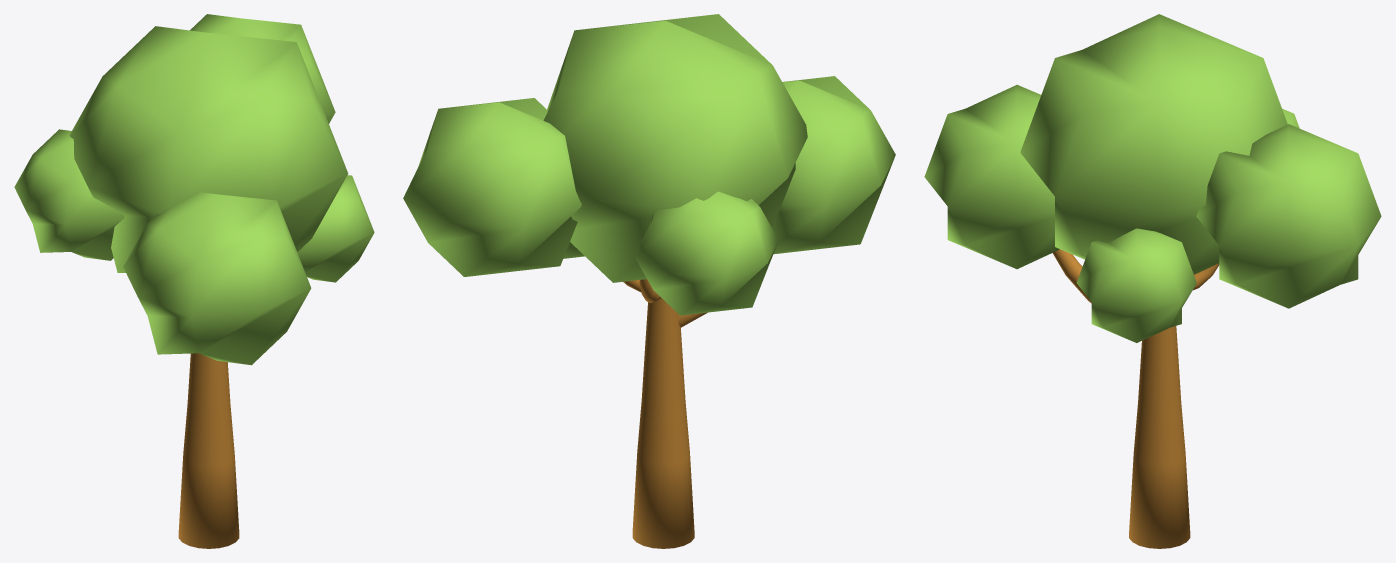
The model's file is arvore_-_lowpoly_tree_cartoon.glb.
The picture shows the model from 3 angles, left to right: view 1: azimuth 30°, elevation 25°; view 2: azimuth 150°, elevation 25°; view 3: azimuth 270°, elevation 25°; orthographic projection. The views are drawn at different scales.
Parts seen in each view (by area): view 1: Object_2, Object_3; view 2: Object_2, Object_3; view 3: Object_2, Object_3.
Boxes of the visible parts, left/top/right/bottom form: Object_2: left=14, top=14, right=374, bottom=365; Object_3: left=178, top=353, right=239, bottom=548; Object_2: left=403, top=14, right=895, bottom=315; Object_3: left=623, top=279, right=707, bottom=548; Object_2: left=924, top=14, right=1381, bottom=342; Object_3: left=1052, top=249, right=1219, bottom=548.
Bounding box in the file's own units: 4.01 × 6.05 × 4.93.
